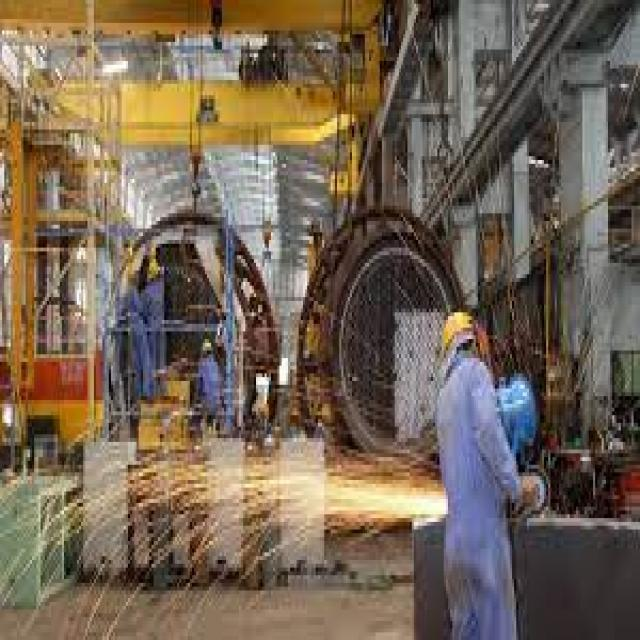Safety-Helmet: (426, 297, 491, 373)
